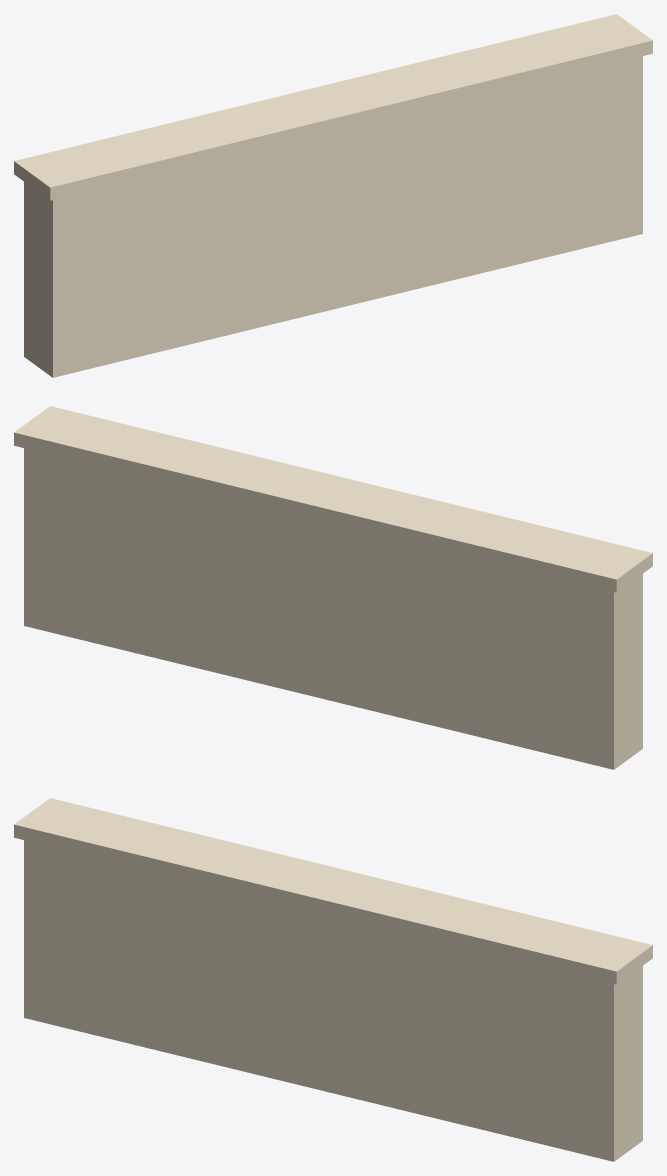
Rendered from town_parapet.glb.
3 views of the same model, one above another, from view 1: azimuth 30°, elevation 25°; view 2: azimuth 150°, elevation 25°; view 3: azimuth 330°, elevation 25° (orthographic).
Parts seen in each view (by area): view 1: beach_town_parapet; view 2: beach_town_parapet; view 3: beach_town_parapet.
Part boxes in pixels (x1,y1,x2,y2): beach_town_parapet: (14,14,652,377); beach_town_parapet: (14,406,652,769); beach_town_parapet: (14,798,652,1161).
Size of the model in its own units: 2.4 by 0.74 by 0.25.
Materials: 1 (1 with a texture image).
